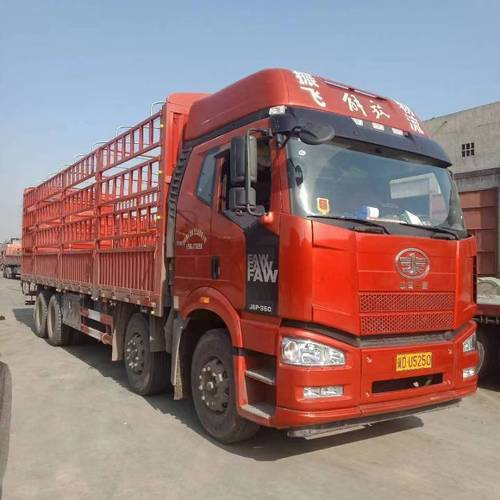卡车: (11, 64, 489, 446)
